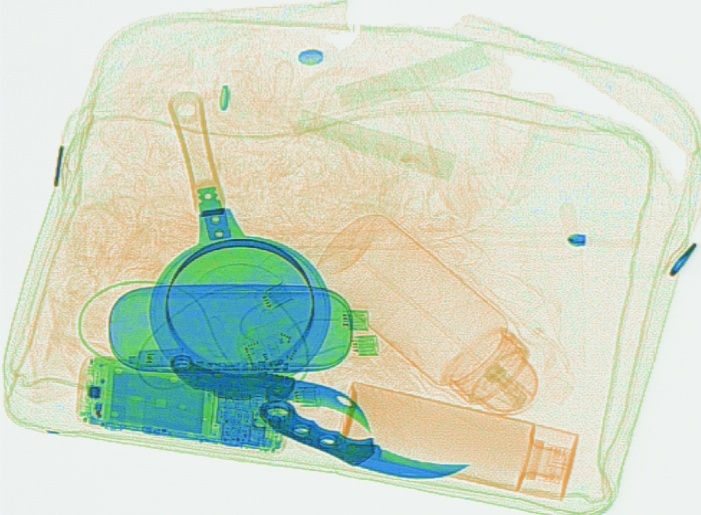knife: (256, 397, 468, 479), (168, 354, 370, 431)
